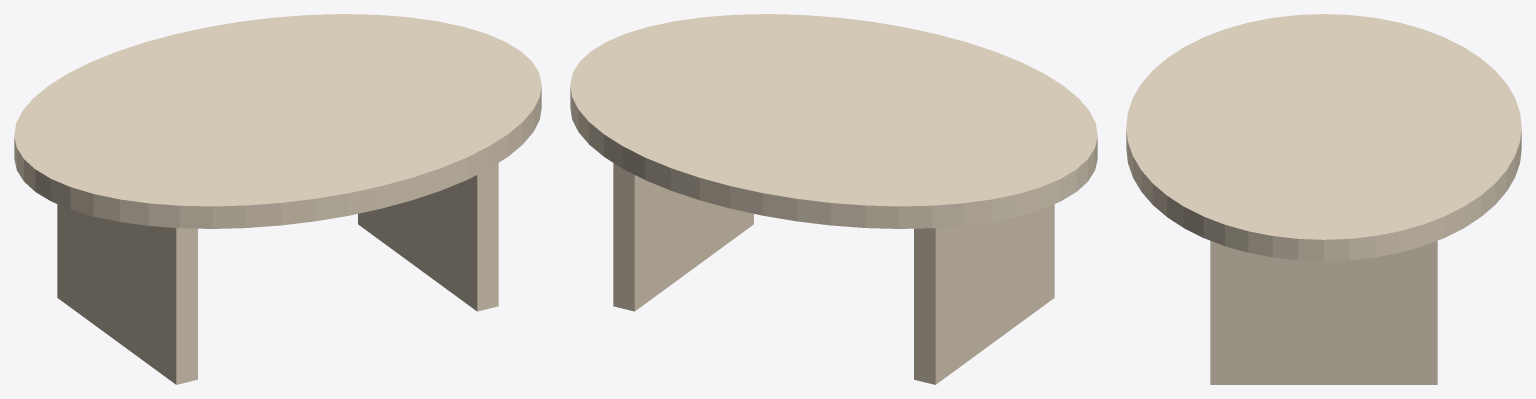
File: clem-coffee-table-light-oak.glb
The picture shows the model from 3 angles, left to right: view 1: azimuth 30°, elevation 25°; view 2: azimuth 150°, elevation 25°; view 3: azimuth 270°, elevation 25°; orthographic projection. The views are drawn at different scales.
Visible parts, largest first — view 1: geometry_0; view 2: geometry_0; view 3: geometry_0.
Part boxes in pixels (x1,y1,x2,y2): geometry_0: (14, 14, 541, 384); geometry_0: (570, 14, 1097, 384); geometry_0: (1126, 14, 1521, 384).
Bounding box in the file's own units: 0.9 × 0.34 × 0.666.
